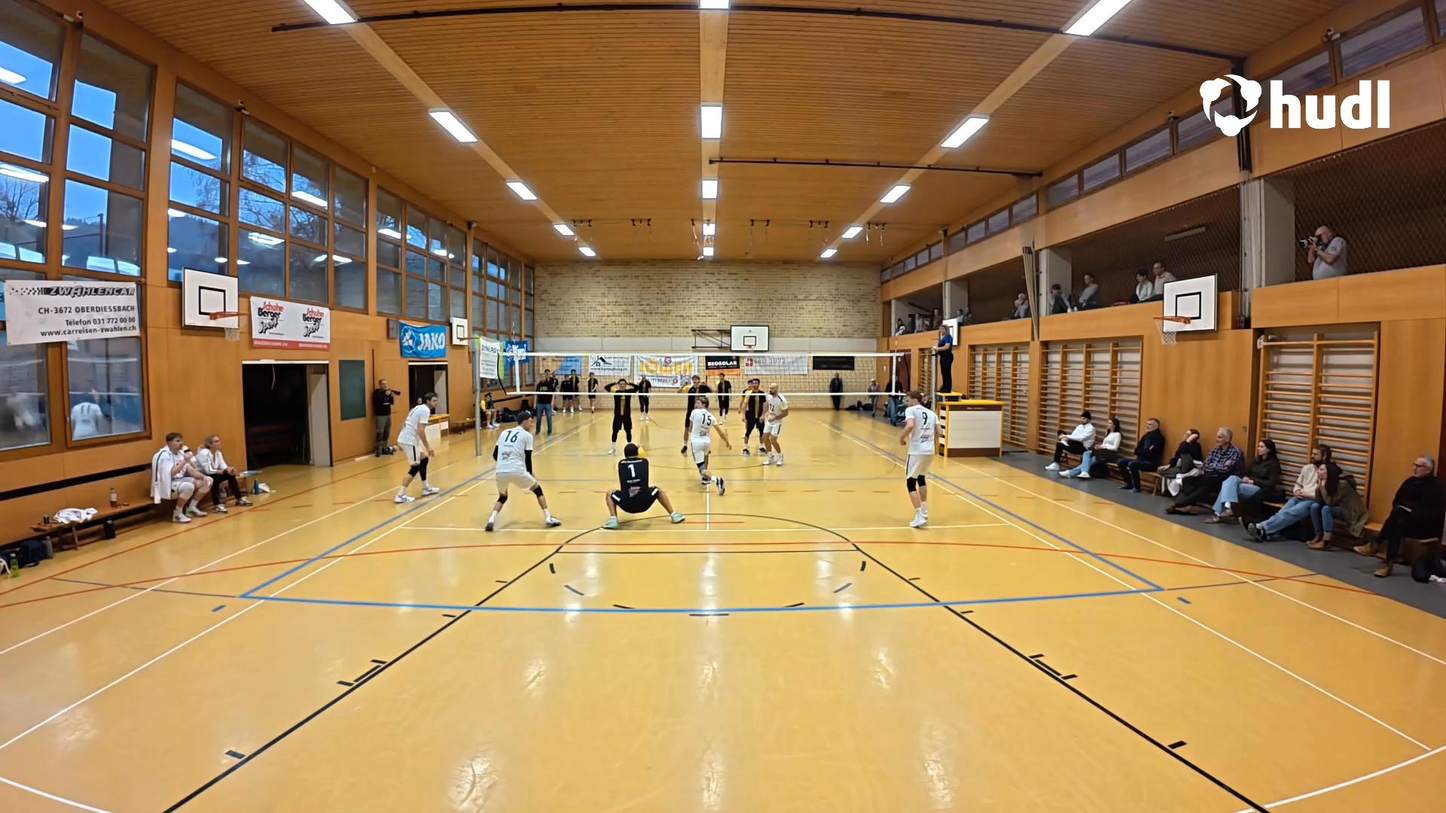Player: (484, 412, 565, 532), (392, 394, 441, 505), (900, 391, 939, 528), (686, 394, 718, 490), (602, 375, 639, 452), (758, 379, 787, 469), (682, 378, 712, 454), (738, 379, 766, 460), (633, 368, 654, 424), (712, 373, 734, 425)
Receive: (599, 439, 688, 533)
ball: (632, 441, 647, 461)
